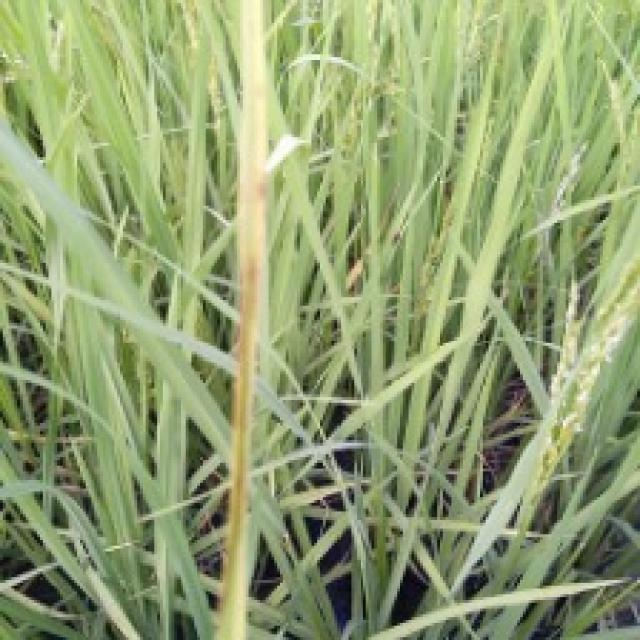Bacterial_Blight: (208, 0, 285, 640)
